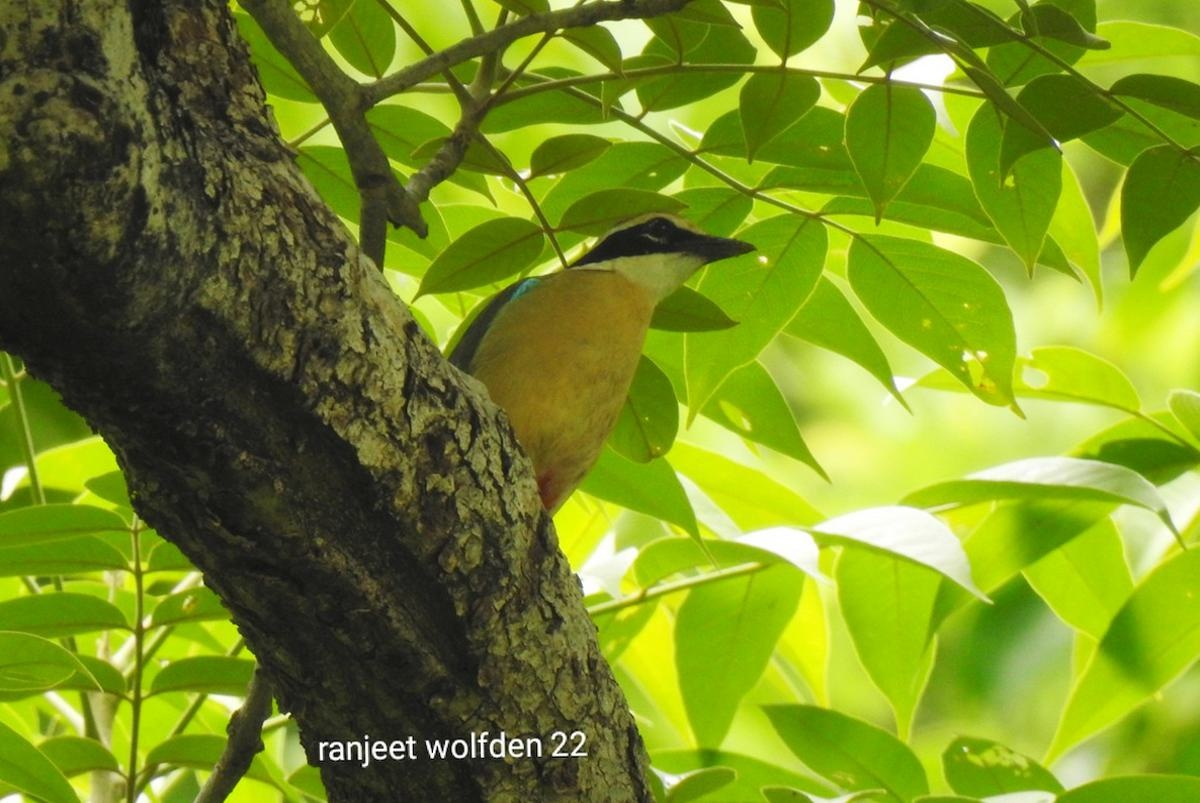pitta: (436, 161, 767, 533)
